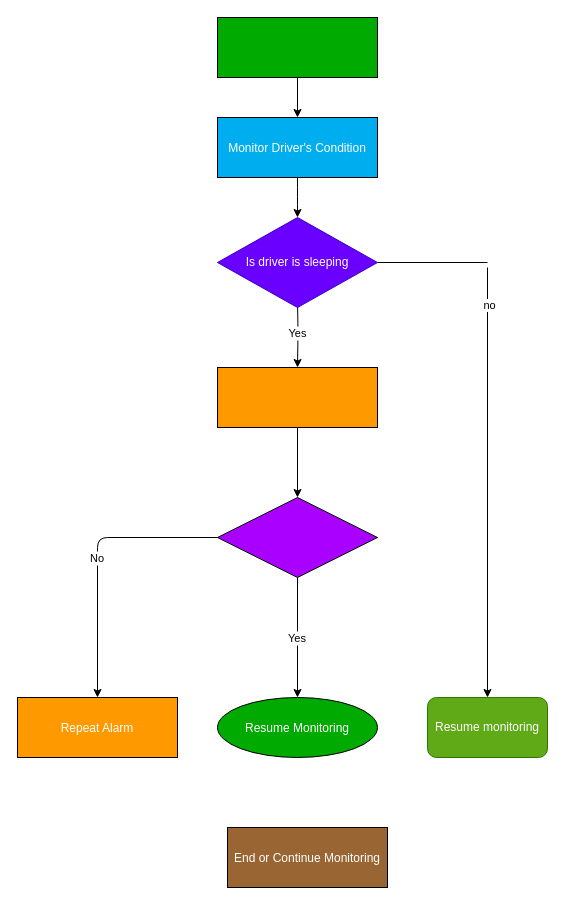
Some shapes in this 565 by 905 pixel diagram are drawn without their labels. The box of each missing label's shape, as (x1, y1, x2, y2) in pixels:
Is Driver Awake Now?: (216, 496, 378, 578)
Start / Initialize Monitoring: (216, 16, 378, 78)
Trigger Alarm: (216, 366, 378, 428)
